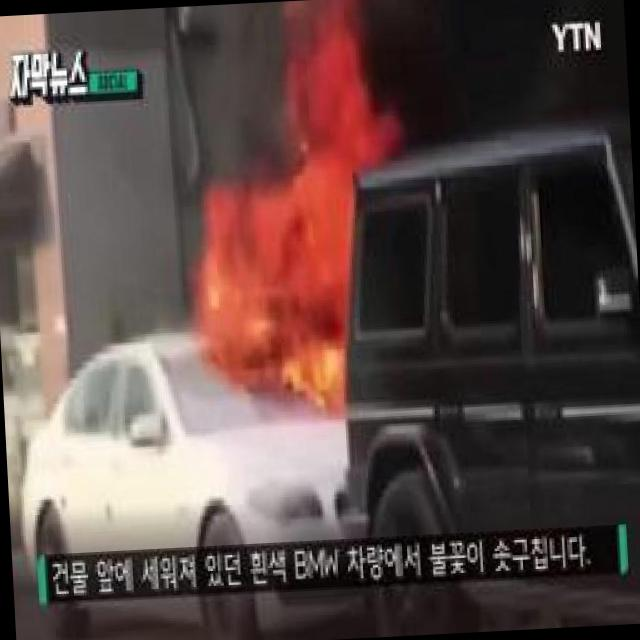Fire: (205, 65, 408, 397)
